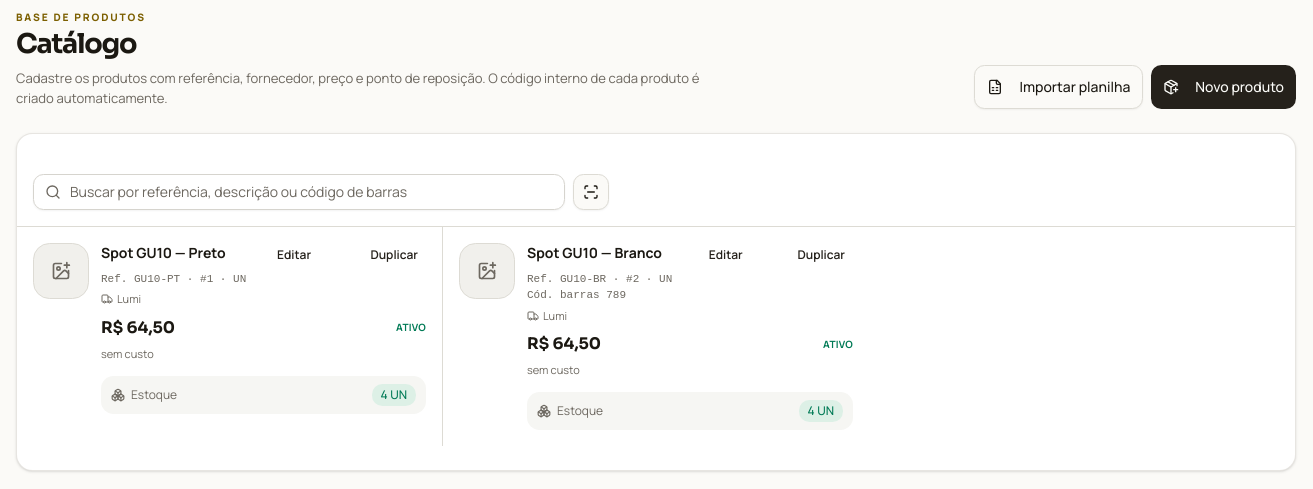
Test: ProductsPage › lista cada produto com a sua referência, sem agrupar, e busca por ela
The image size is (1313, 489).
Expected: the text "Spot GU10 — Preto" is shown, [101, 243, 226, 263]
Expected: the text "Spot GU10 — Branco" is shown, [527, 243, 662, 263]
Type "gu10-br" into the field labelled "Buscar por referência, descrição ou código de barras" at (299, 192), box [33, 174, 565, 210]
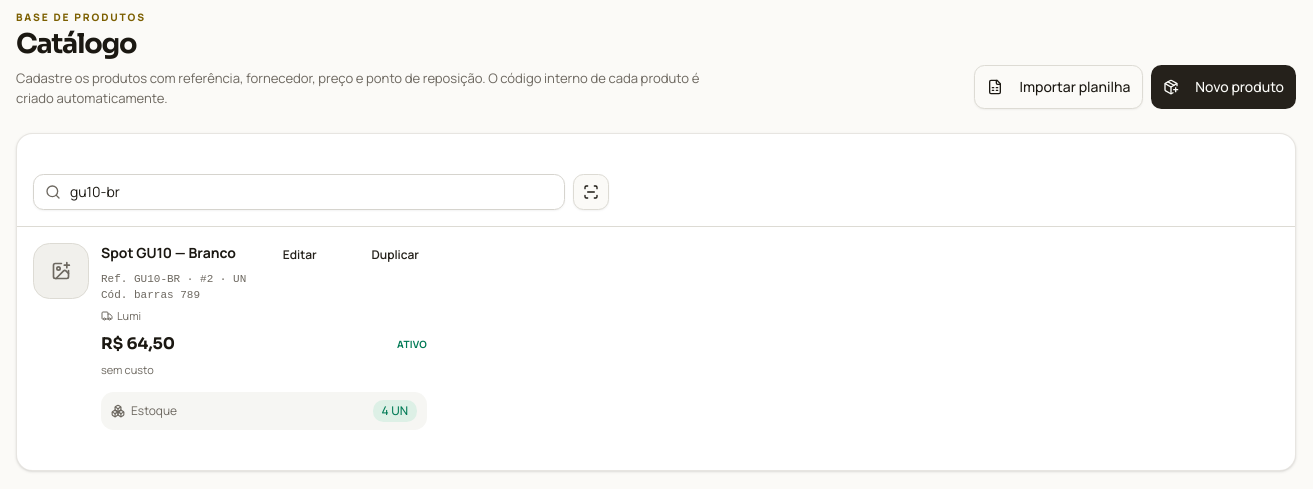
Expected: the text "Spot GU10 — Branco" is shown, [101, 243, 236, 263]
Expected: the text "Spot GU10 — Preto" is gone
